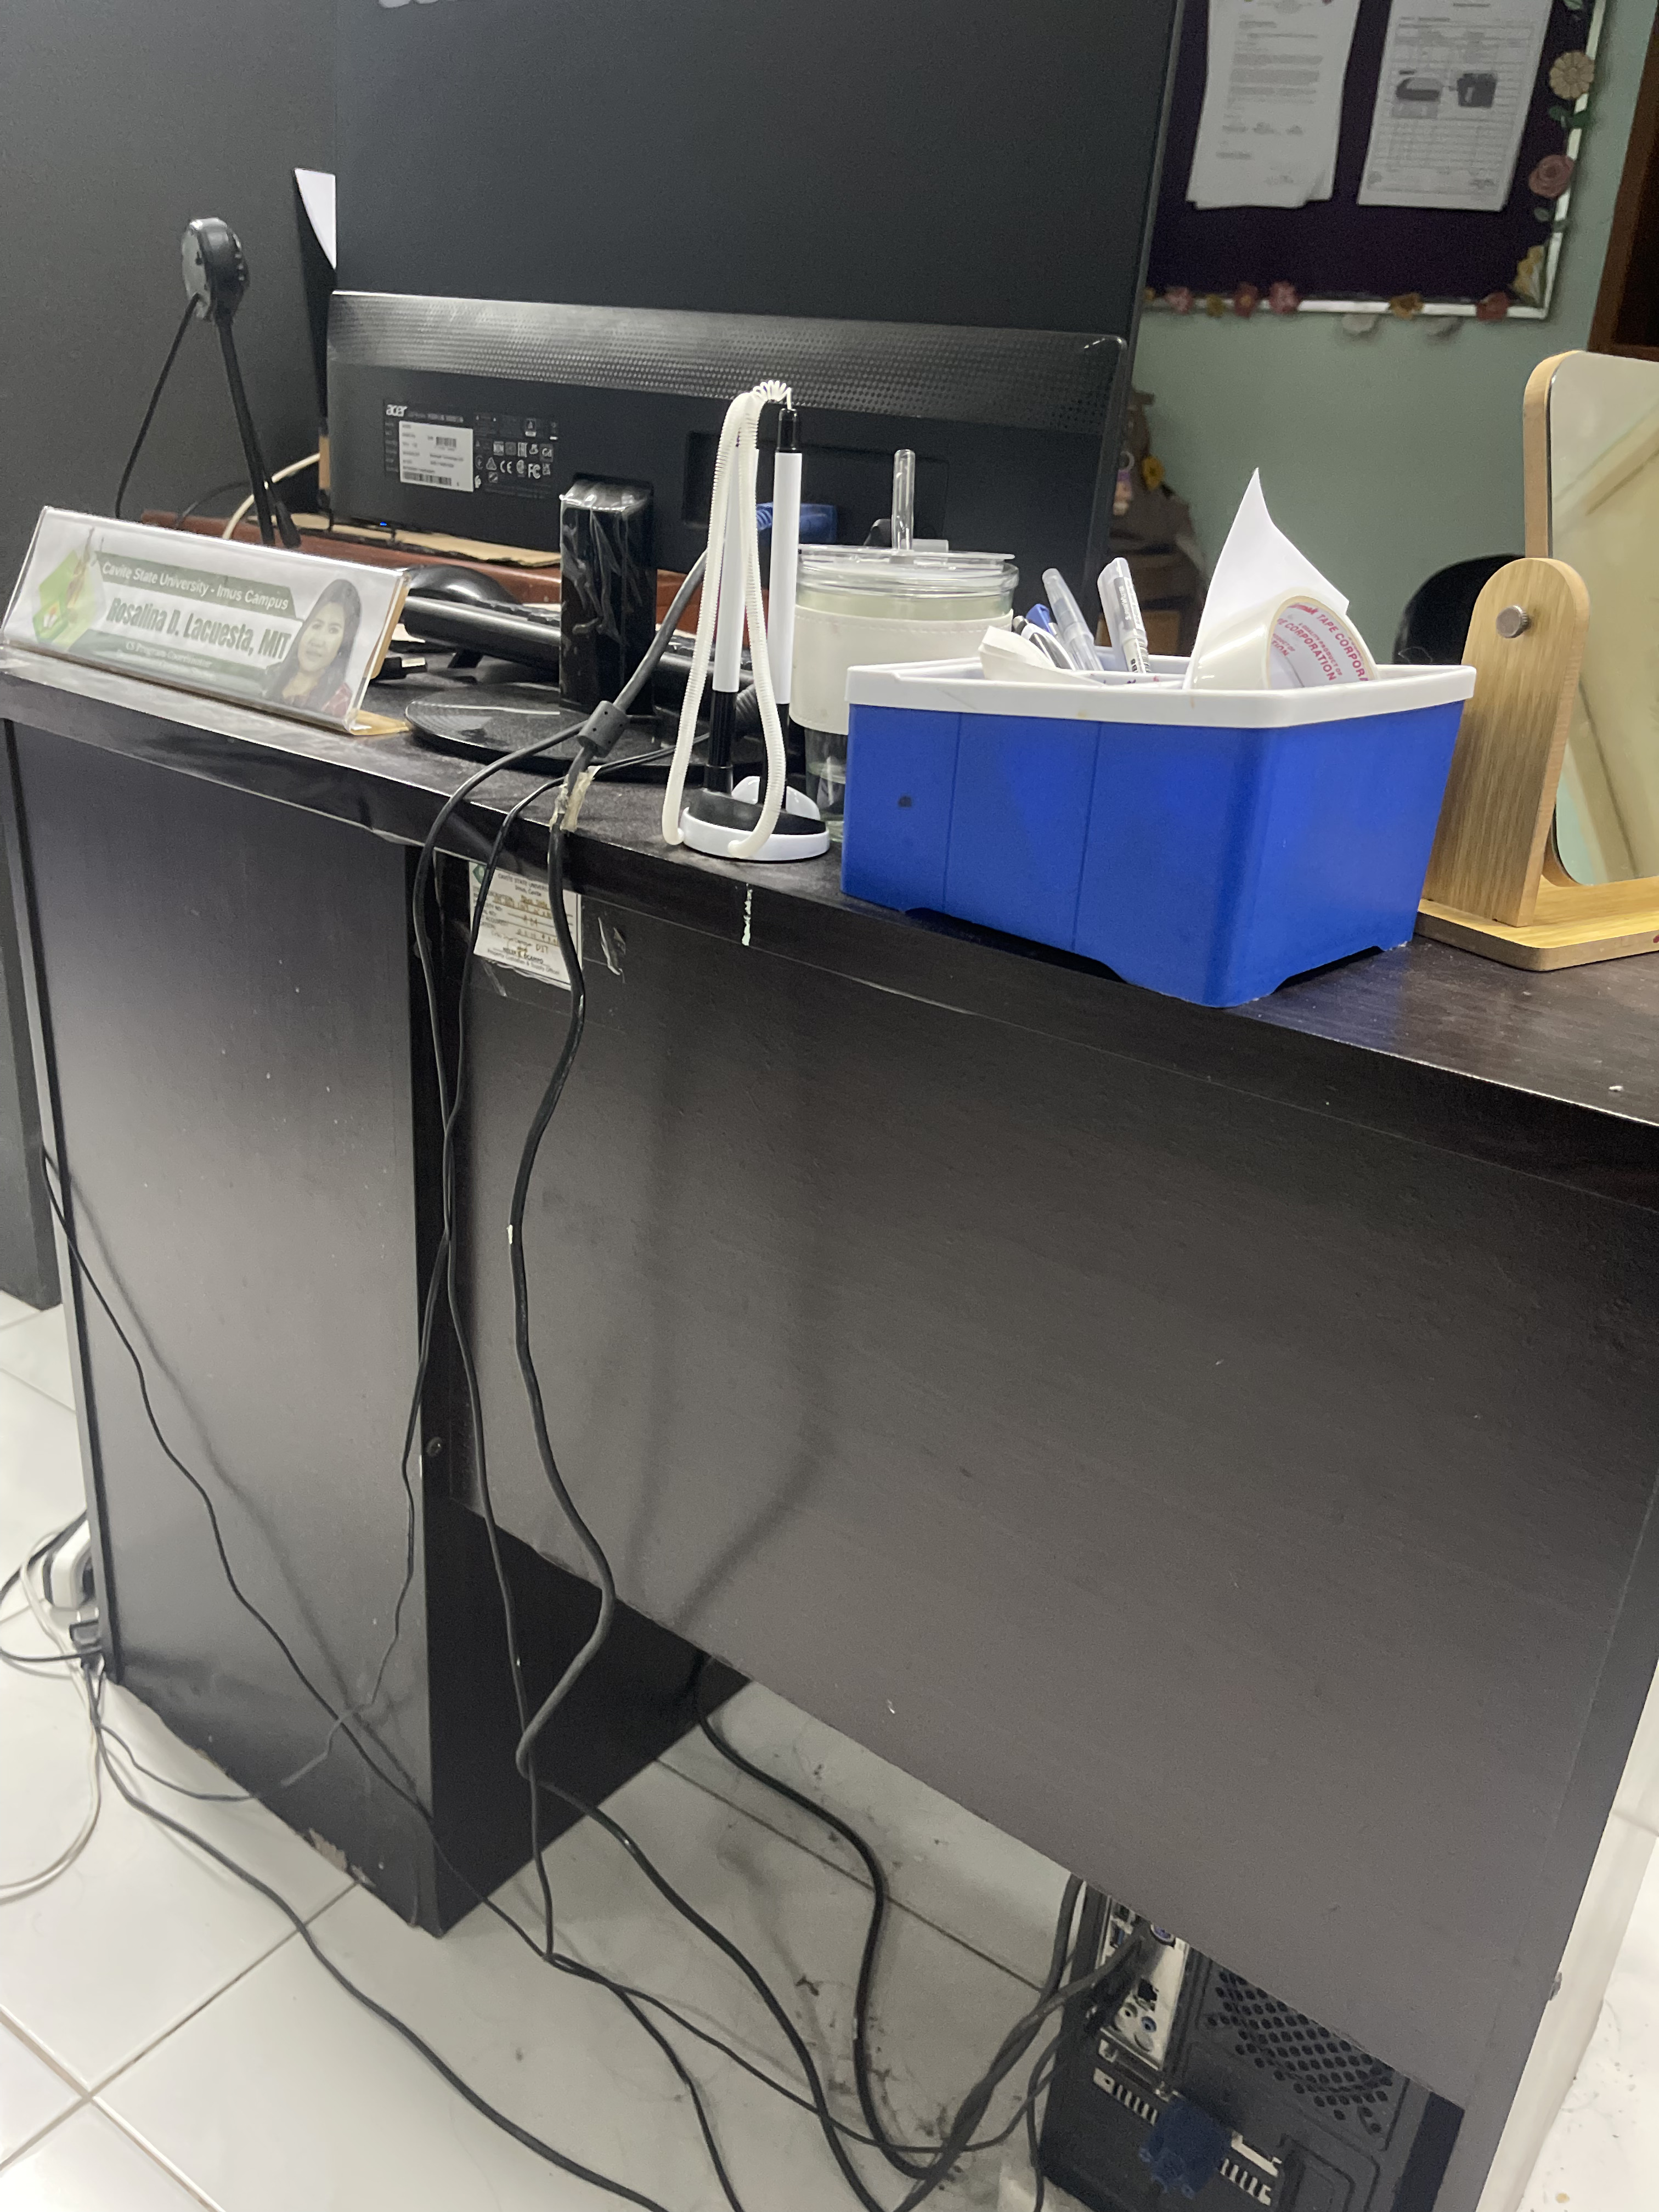table1: (3, 587, 1659, 2212)
